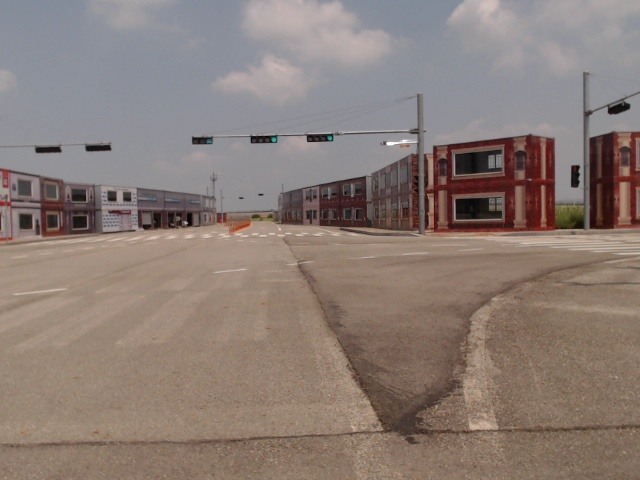straight_green_4: (251, 136, 278, 146), (305, 133, 333, 142)
